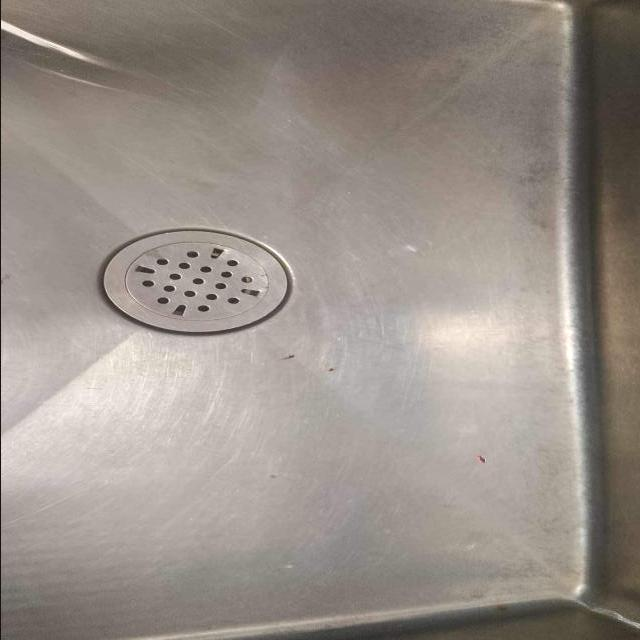General: (3, 3, 638, 639)
Sharps: (100, 227, 294, 337)
